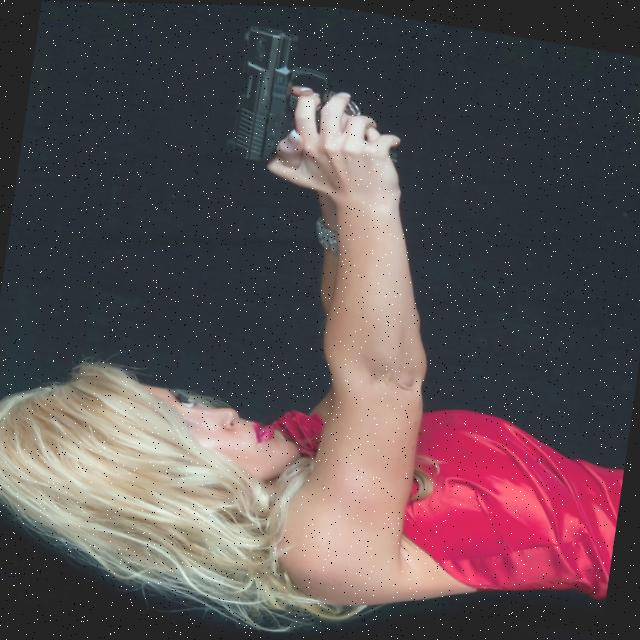pistol: (226, 22, 340, 170)
